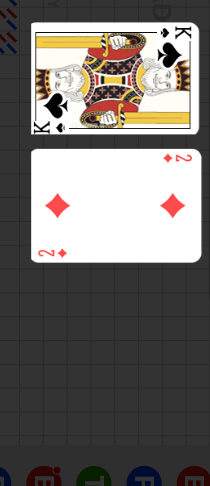2D: (36, 247, 69, 260)
KS: (156, 24, 193, 41)
